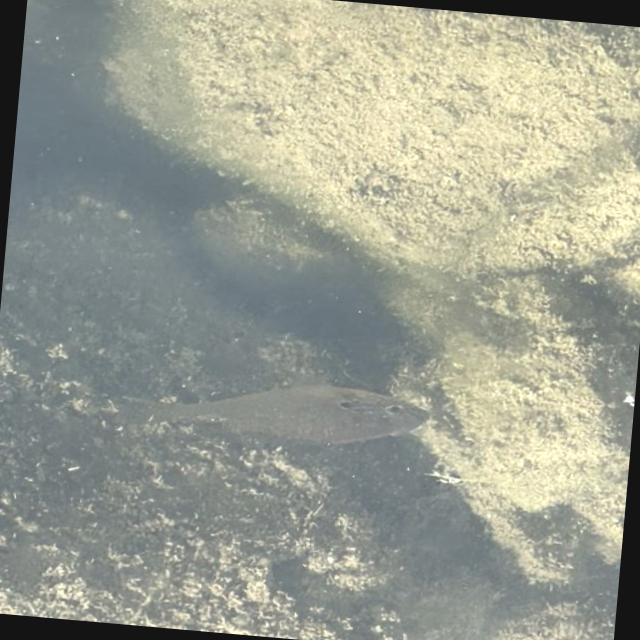Gunes Levregi: (106, 362, 434, 462)
